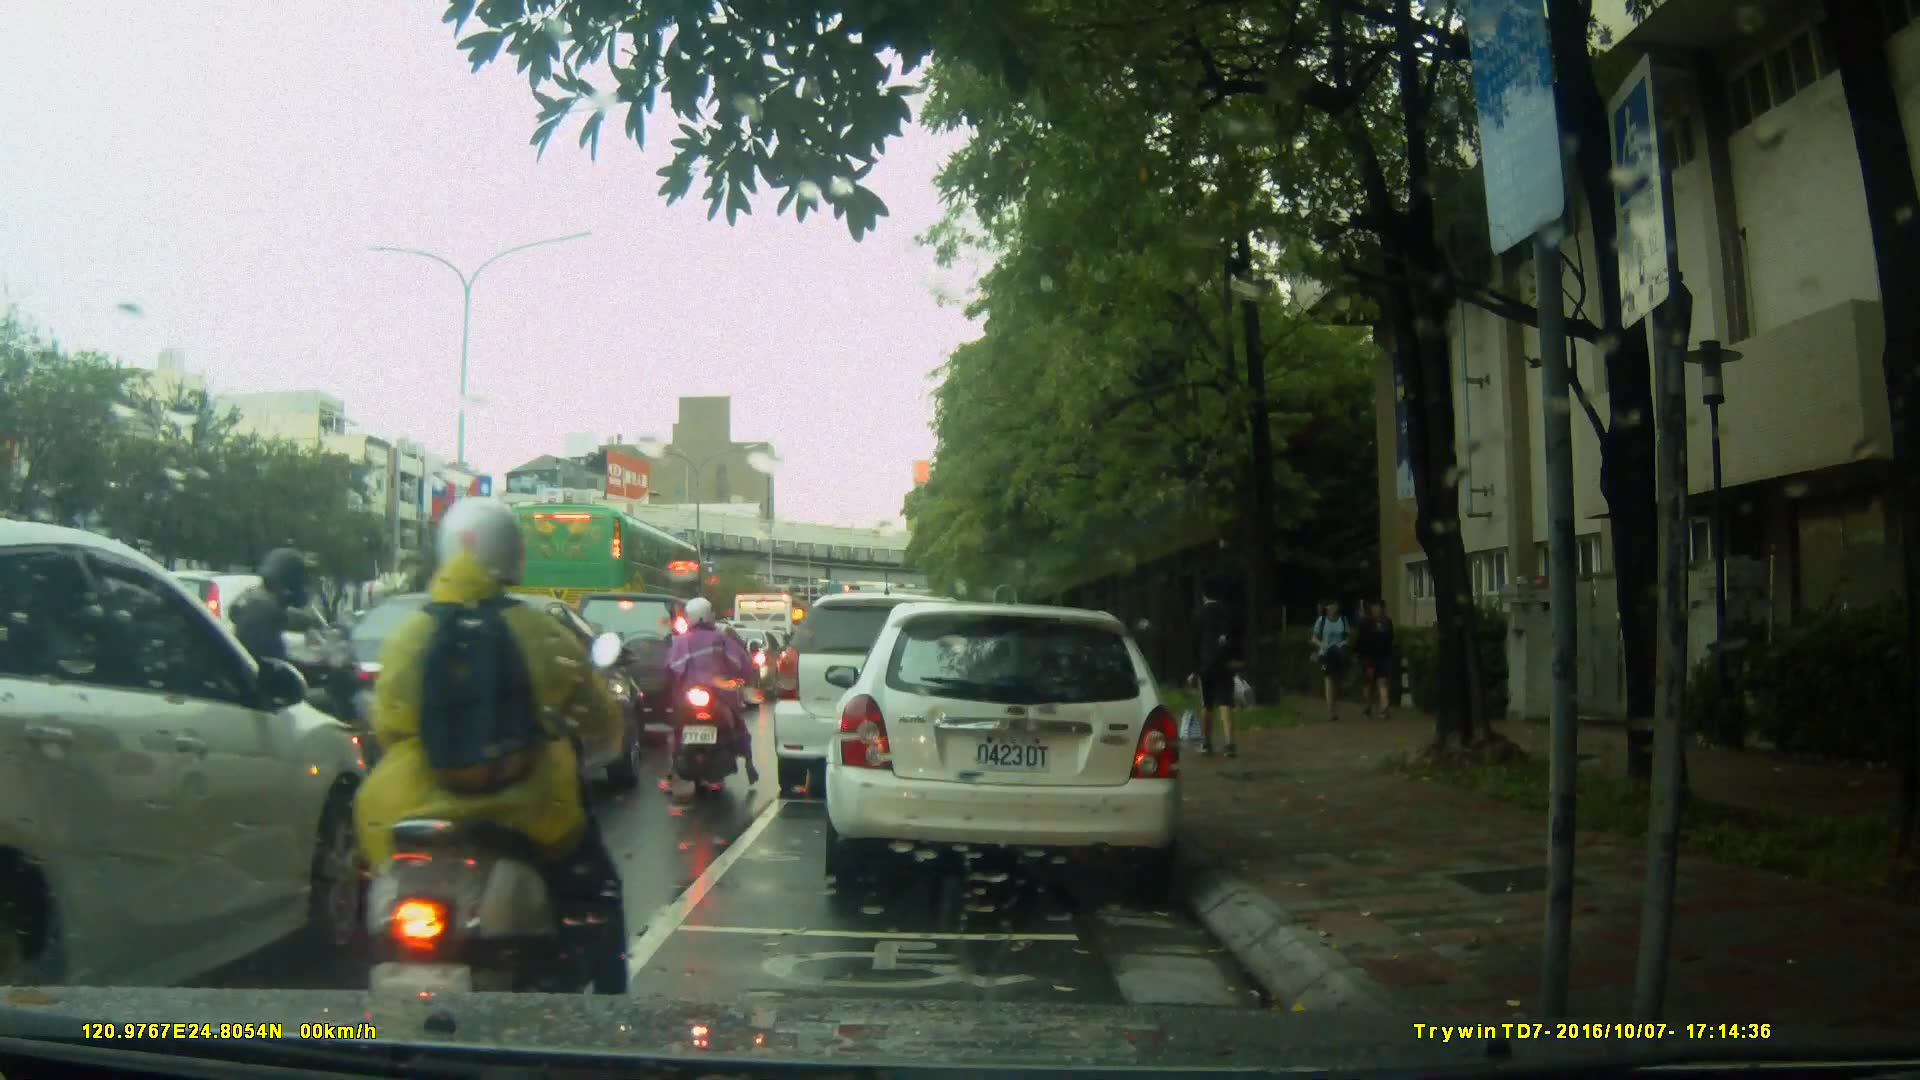pedestrian: (1182, 574, 1248, 760), (1312, 589, 1367, 726), (1351, 592, 1391, 720)
rider: (358, 493, 636, 1043), (194, 552, 413, 861), (665, 593, 760, 793), (337, 576, 419, 744)
vehicle: (1, 519, 383, 985), (831, 592, 1196, 897), (285, 590, 649, 815), (38, 569, 368, 756), (770, 592, 999, 800), (562, 586, 746, 750), (495, 502, 707, 643)
